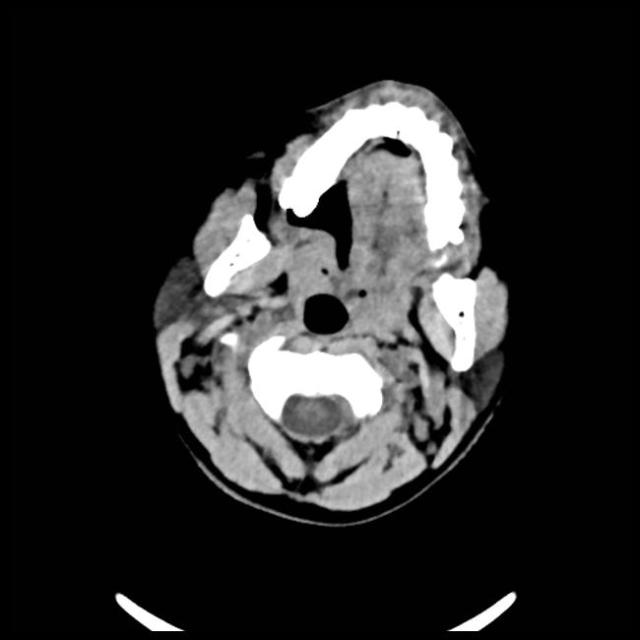lesion: (147, 76, 515, 527)
